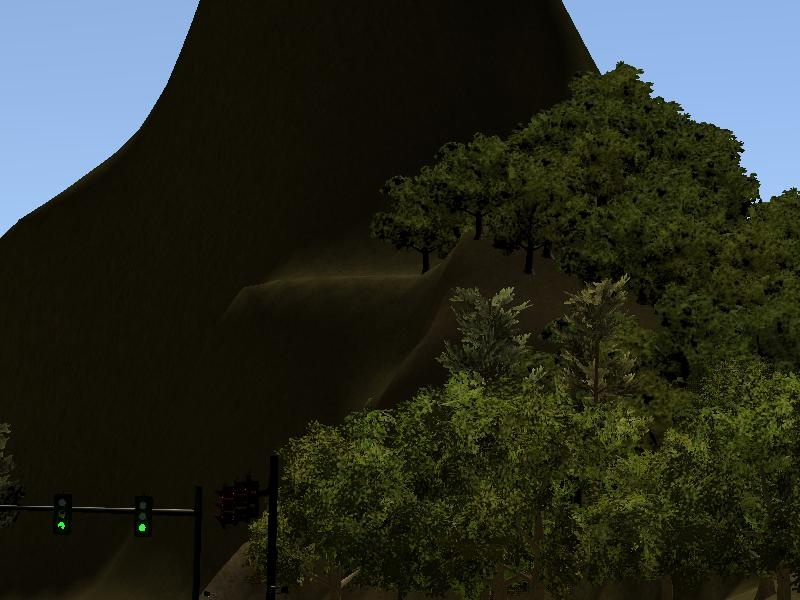GREEN: (130, 494, 154, 542), (50, 490, 73, 538)
